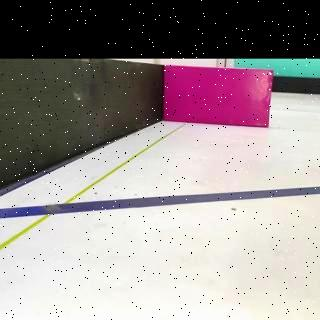xparking: (174, 69, 270, 125)
